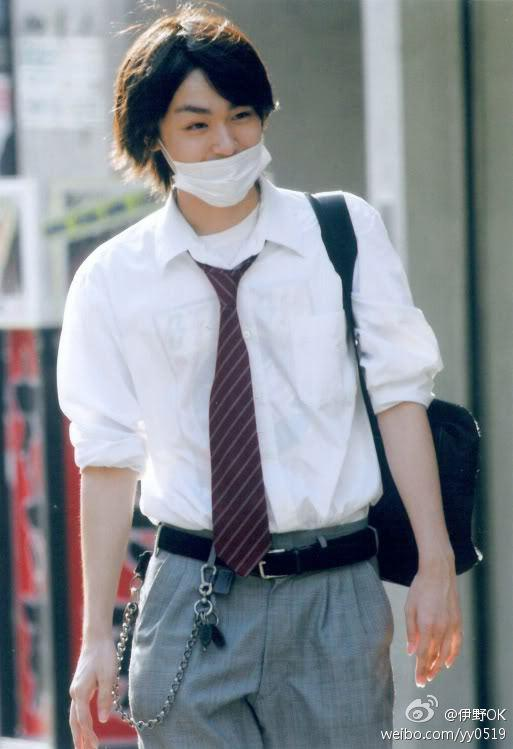WRONG: (165, 90, 268, 207)
